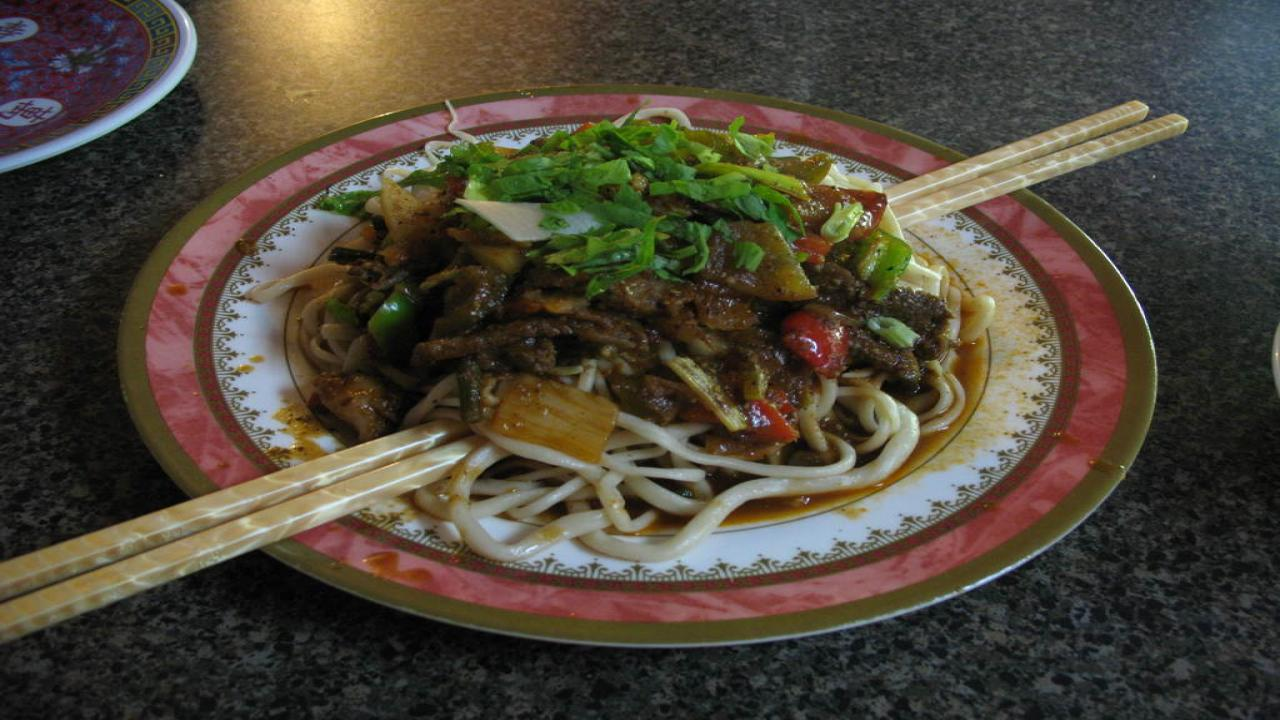chopstick: (0, 426, 467, 618), (890, 107, 1172, 221)
